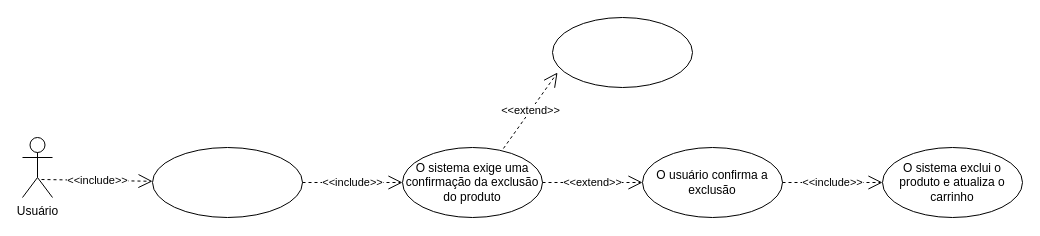
The diagram is 1040 pixels wide and 236 high, and some of its shapes have lost their labels. The box of each missing label's shape, as (x1, y1, x2, y2) in pixels:
O usuário escolhe o produto que deseja excluir em seu carrinho de compras: (152, 146, 302, 218)
O usuário não confirma e o produto não é excluído: (552, 16, 692, 88)
